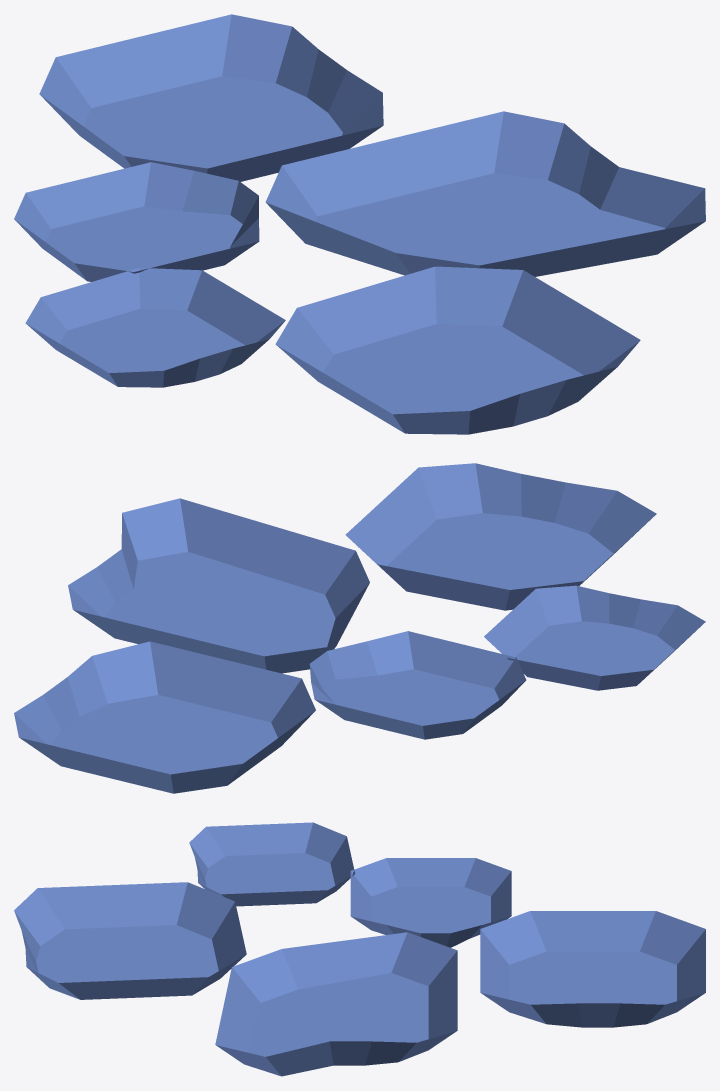
The model's file is sp_stone02.glb.
3 renders of one model, top to bottom at view 1: azimuth 30°, elevation 25°; view 2: azimuth 150°, elevation 25°; view 3: azimuth 270°, elevation 25°, orthographic. The views are drawn at different scales.
Parts seen in each view (by area): view 1: SP_Stone02; view 2: SP_Stone02; view 3: SP_Stone02.
Part boxes in pixels (bbox=[...]): SP_Stone02: bbox=[14, 14, 705, 434]; SP_Stone02: bbox=[14, 463, 705, 793]; SP_Stone02: bbox=[14, 822, 705, 1076].
Size of the model in its own units: 22.98 by 1.38 by 28.63.
Materials: 1 (1 with a texture image).
